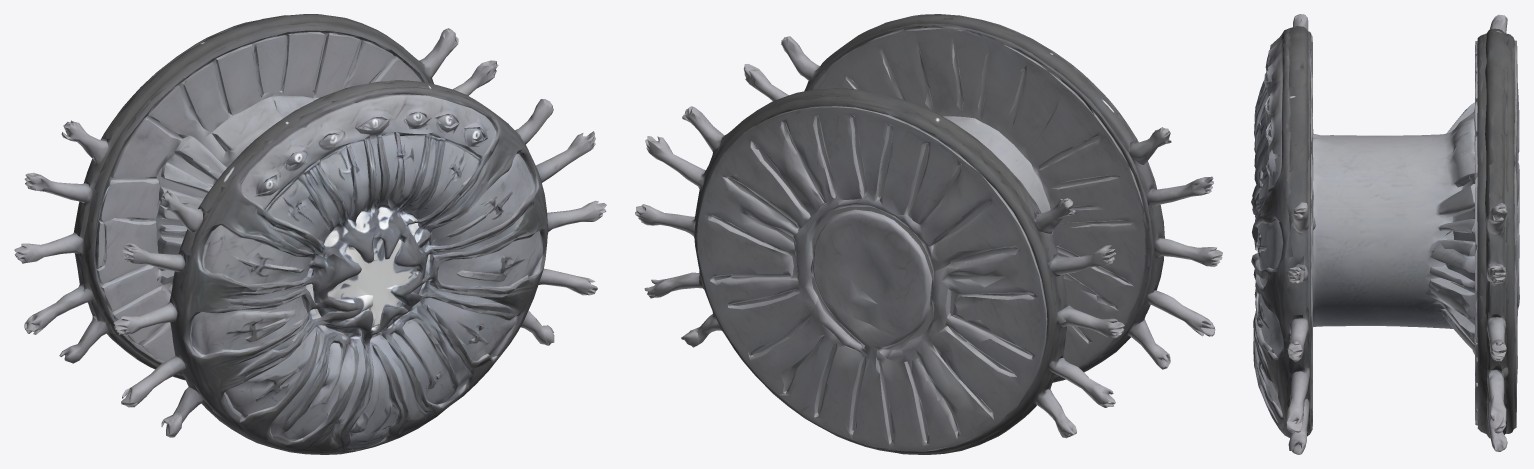
The model's file is throne.glb.
3 views of the same model, side by side, from view 1: azimuth 30°, elevation 25°; view 2: azimuth 150°, elevation 25°; view 3: azimuth 270°, elevation 25° (orthographic). The views are drawn at different scales.
Visible parts, largest first — view 1: Mesh; view 2: Mesh; view 3: Mesh.
Boxes of the visible parts, x1,y1,x2,y2 form: Mesh: [14, 14, 606, 454]; Mesh: [635, 14, 1222, 454]; Mesh: [1251, 14, 1519, 454].
Size of the model in its own units: 1.9 by 1.33 by 0.8734.
1 material, 1 textured.
